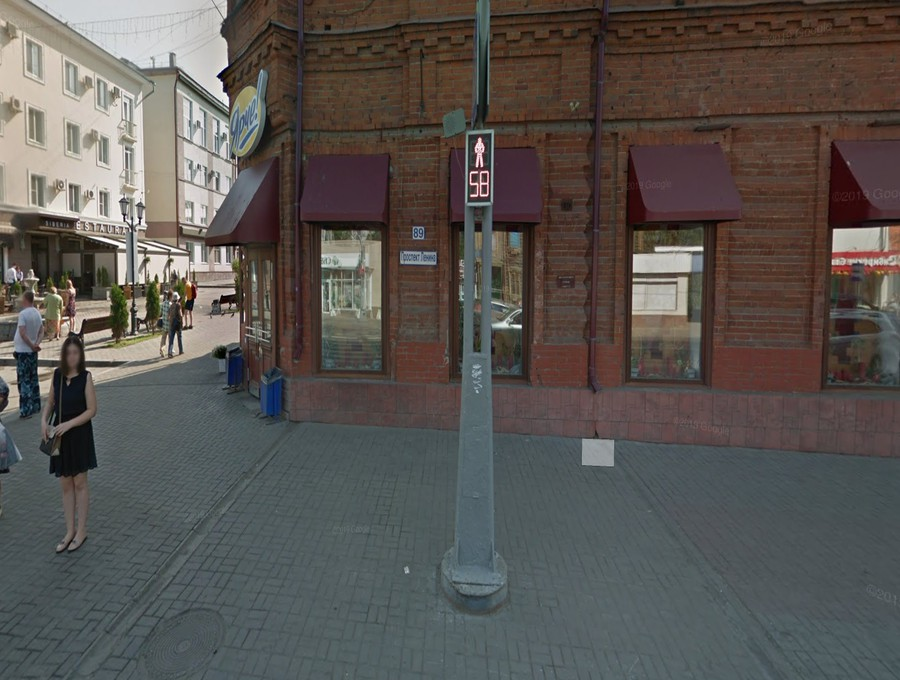Traffic Light-red: (462, 128, 495, 208)
